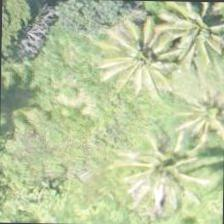Kelapa_Sawit: (95, 2, 187, 94), (113, 117, 205, 209), (164, 63, 223, 156), (150, 1, 223, 64)
